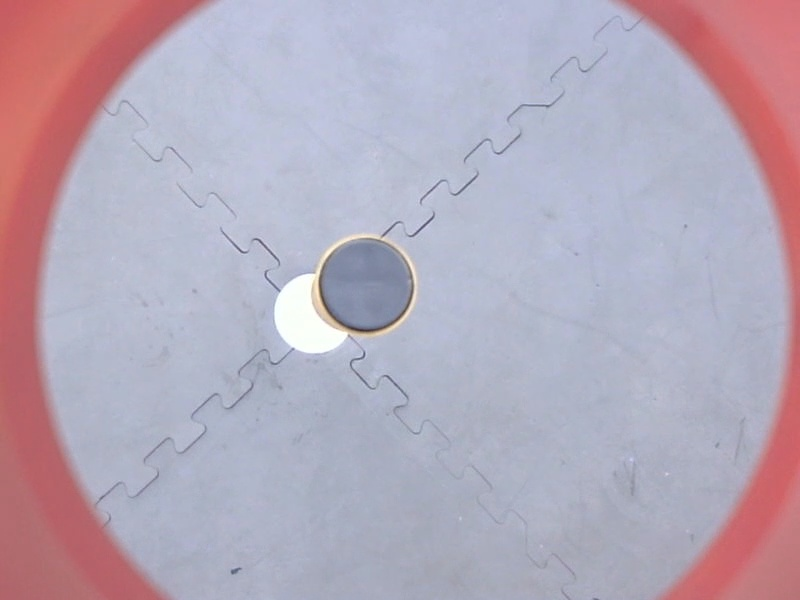tip: (311, 226, 425, 341)
